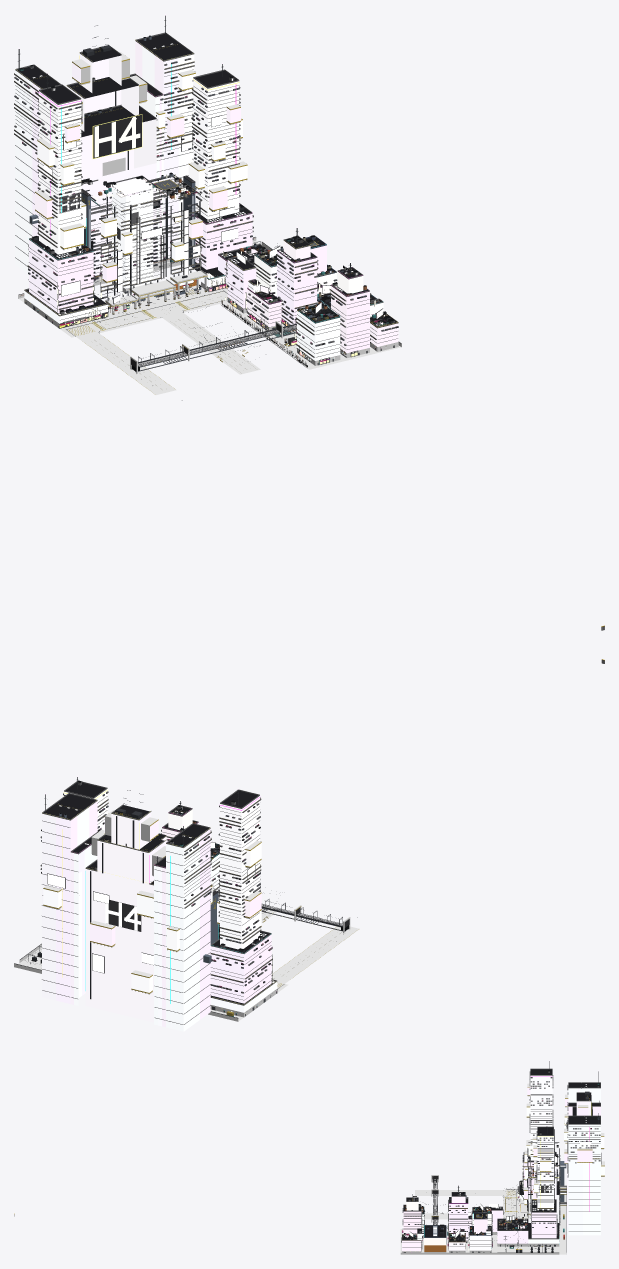
Rendered from world-high-mega.glb.
The picture shows the model from 3 angles, top to bottom: view 1: azimuth 30°, elevation 25°; view 2: azimuth 150°, elevation 25°; view 3: azimuth 270°, elevation 25°; orthographic projection. The views are drawn at different scales.
Parts seen in each view (by area): view 1: mega_facade, mega_trim, mega_roof, mega_trim_detail, mega_concrete, mega_asphalt, mega_sidewalk, mega_billboard, mega_glow, mega_metal, mega_board_frame, mega_metal_detail (+1 smaller); view 2: mega_facade, mega_trim, mega_trim_detail, mega_roof, mega_concrete, mega_asphalt, mega_metal, mega_billboard, mega_glow; view 3: mega_facade, mega_trim, mega_roof, mega_concrete, mega_trim_detail, mega_asphalt, mega_sidewalk, mega_metal, mega_dark_detail, mega_glow.
Boxes of the visible parts, x1,y1,x2,y2 form: mega_facade: (15, 41, 398, 360); mega_trim: (14, 32, 401, 371); mega_roof: (17, 34, 396, 326); mega_trim_detail: (14, 61, 397, 367); mega_concrete: (18, 52, 401, 373); mega_asphalt: (67, 291, 260, 394); mega_sidewalk: (19, 241, 400, 369); mega_billboard: (43, 115, 383, 360); mega_glow: (18, 14, 384, 359); mega_metal: (18, 15, 394, 364); mega_board_frame: (44, 115, 382, 367); mega_metal_detail: (18, 20, 394, 400); mega_facade: (42, 789, 277, 1031); mega_trim: (14, 780, 349, 1018); mega_trim_detail: (42, 795, 320, 1024); mega_roof: (44, 782, 275, 1004); mega_concrete: (14, 810, 350, 1021); mega_asphalt: (261, 909, 359, 988); mega_metal: (32, 777, 342, 999); mega_billboard: (47, 842, 255, 972); mega_glow: (45, 775, 327, 982); mega_facade: (402, 1075, 604, 1251); mega_trim: (401, 1068, 604, 1252); mega_roof: (402, 1069, 600, 1241); mega_concrete: (400, 1083, 604, 1254); mega_trim_detail: (402, 1109, 600, 1249); mega_asphalt: (415, 1190, 516, 1219); mega_sidewalk: (400, 1188, 565, 1254); mega_metal: (403, 1061, 599, 1252); mega_dark_detail: (403, 1070, 599, 1248); mega_glow: (404, 1060, 599, 1247).
Bounding box in the file's own units: 226 × 214 × 856.
